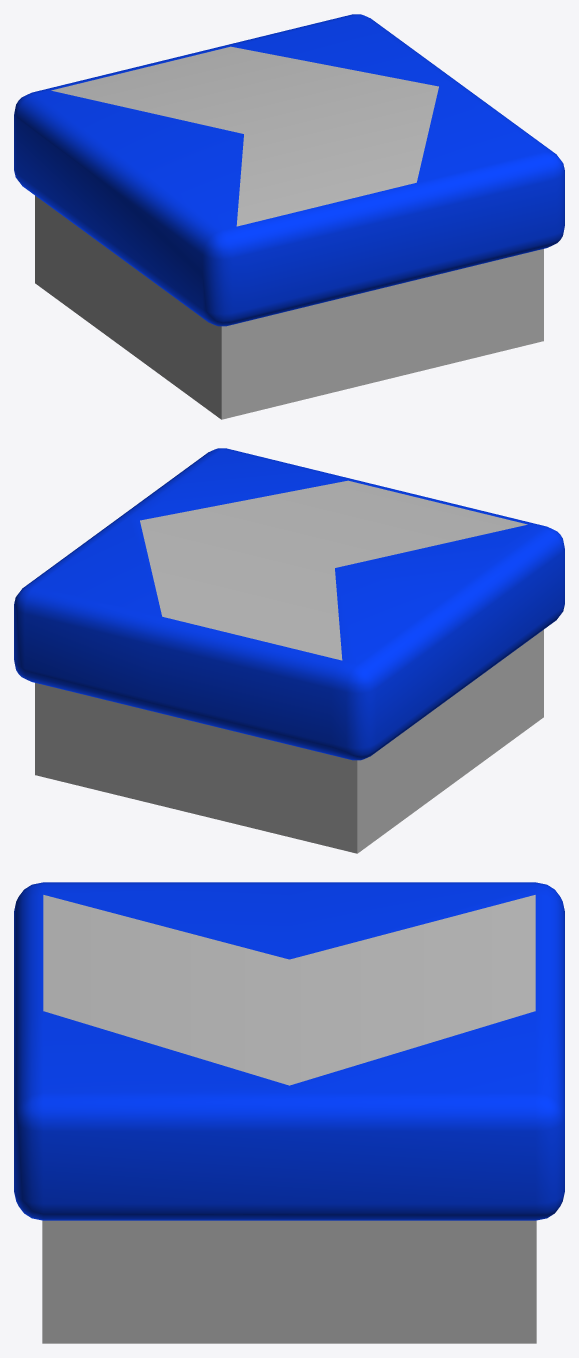
File: Base 1 Arrow White Blue.glb
3 views of the same model, one above another, from view 1: azimuth 30°, elevation 25°; view 2: azimuth 150°, elevation 25°; view 3: azimuth 270°, elevation 25° (orthographic). The views are drawn at different scales.
Parts seen in each view (by area): view 1: Base_1_Arrow_White_; view 2: Base_1_Arrow_White_; view 3: Base_1_Arrow_White_.
Boxes of the visible parts, x1=… form: Base_1_Arrow_White_: x1=14, y1=14, x2=564, y2=419; Base_1_Arrow_White_: x1=14, y1=448, x2=564, y2=853; Base_1_Arrow_White_: x1=14, y1=882, x2=564, y2=1343.
Size of the model in its own units: 3.98 by 2 by 3.99.
